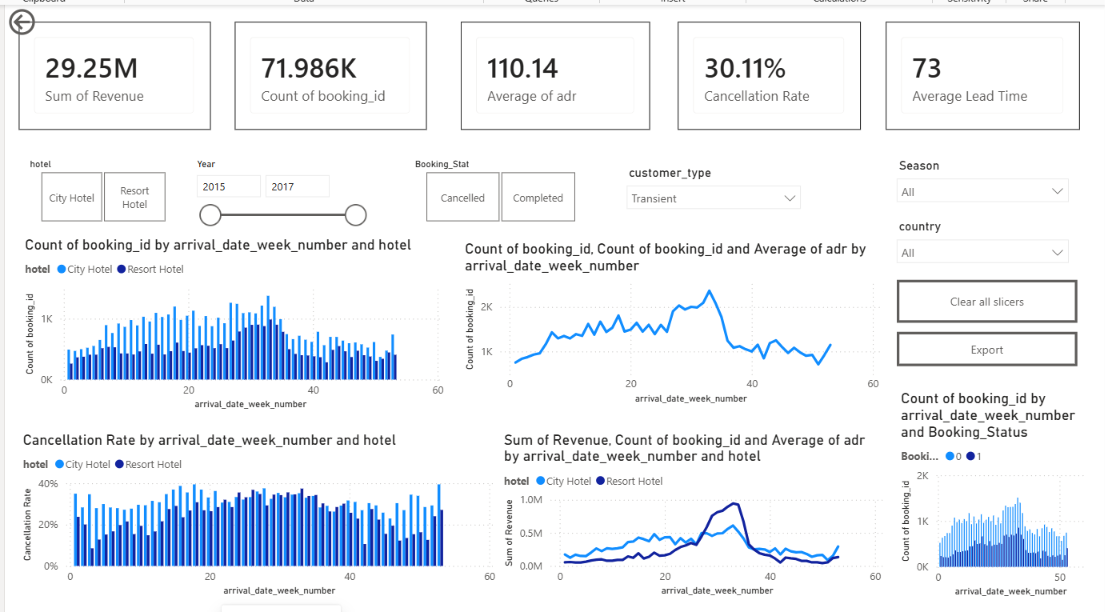

Layout of this report page (visuals, bound fields, positions):
{"tool":"powerbi","page":{"name":"Duplicate of Page 1","canvas":[1280,720],"ordinal":1},"visuals":[{"type":"cardVisual","fields":{"Data":["Sum(Hotel Bookings.Revenue)"]},"box":[15.7,20,222.9,125.7],"z":0},{"type":"cardVisual","fields":{"Data":["Count(Hotel Bookings.booking_id)"]},"box":[267.1,20,222.9,125.7],"z":1000},{"type":"cardVisual","fields":{"Data":["Avg(Hotel Bookings.adr)"]},"box":[530,20,220,125.7],"z":2000},{"type":"cardVisual","fields":{"Data":["Hotel Bookings.Cancellation Rate"]},"box":[782.9,20,212.9,125.7],"z":3000},{"type":"cardVisual","fields":{"Data":["Hotel Bookings.Average Lead Time"]},"box":[1024.3,20,225.7,125.7],"z":4000},{"type":"slicer","fields":{"Values":["Hotel Bookings.hotel"]},"box":[15.7,172.9,194.3,85.7],"z":5000},{"type":"slicer","fields":{"Values":["Hotel Bookings.Booking_Stat"]},"box":[464.3,172.9,222.9,85.7],"z":6000},{"type":"slicer","fields":{"Values":["Hotel Bookings.Arrival_date.Variation.Date Hierarchy.Year"]},"box":[210,172.9,218.6,85.7],"z":7000},{"type":"slicer","fields":{"Values":["Hotel Bookings.customer_type"]},"box":[712.9,181.4,222.9,80],"z":8000},{"type":"slicer","fields":{"Values":["Hotel Bookings.Season"]},"box":[1027.1,172.9,220,95.7],"z":9000},{"type":"actionButton","box":[0,0,100,40],"z":10000},{"type":"slicer","fields":{"Values":["Hotel Bookings.country"]},"box":[1027.1,244.3,220,91.4],"z":11000},{"type":"actionButton","box":[1037.1,320,210,50],"z":12000},{"type":"actionButton","title":"Export","box":[1037.1,380,210,40],"z":13000},{"type":"lineChart","fields":{"Category":["Hotel Bookings.arrival_date_week_number"],"Y":["CountNonNull(Hotel Bookings.booking_id)"]},"box":[530,272.9,494.3,195.7],"z":14000},{"type":"lineChart","fields":{"Category":["Hotel Bookings.arrival_date_week_number"],"Y":["Sum(Hotel Bookings.Revenue)"],"Series":["Hotel Bookings.hotel"]},"box":[575.7,495.7,451.4,197.1],"z":15000},{"type":"clusteredColumnChart","fields":{"Category":["Hotel Bookings.arrival_date_week_number"],"Y":["Hotel Bookings.Cancellation Rate"],"Series":["Hotel Bookings.hotel"]},"box":[15.7,495.7,560,197.1],"z":16000},{"type":"clusteredColumnChart","fields":{"Category":["Hotel Bookings.arrival_date_week_number"],"Y":["Count(Hotel Bookings.booking_id)"],"Series":["Hotel Bookings.hotel"]},"box":[18.6,268.6,497.1,207.1],"z":17000},{"type":"clusteredColumnChart","fields":{"Category":["Hotel Bookings.arrival_date_week_number"],"Y":["Count(Hotel Bookings.booking_id)"],"Series":["Hotel Bookings.Booking_Status"]},"box":[1037.1,447.1,230,245.7],"z":18000}]}

Visuals, with their boxes on the page's 1280x720 design canvas (x1, y1, x2, y2). These are canvas units, not pixel positions in the 1105x612 screenshot, which may show the page scaled, cropped or inside an application window:
cardVisual - Sum(Hotel Bookings.Revenue): {"left": 16, "top": 20, "right": 239, "bottom": 146}
cardVisual - Count(Hotel Bookings.booking_id): {"left": 267, "top": 20, "right": 490, "bottom": 146}
cardVisual - Avg(Hotel Bookings.adr): {"left": 530, "top": 20, "right": 750, "bottom": 146}
cardVisual - Hotel Bookings.Cancellation Rate: {"left": 783, "top": 20, "right": 996, "bottom": 146}
cardVisual - Hotel Bookings.Average Lead Time: {"left": 1024, "top": 20, "right": 1250, "bottom": 146}
slicer - Hotel Bookings.hotel: {"left": 16, "top": 173, "right": 210, "bottom": 259}
slicer - Hotel Bookings.Booking_Stat: {"left": 464, "top": 173, "right": 687, "bottom": 259}
slicer - Hotel Bookings.Arrival_date.Variation.Date Hierarchy.Year: {"left": 210, "top": 173, "right": 429, "bottom": 259}
slicer - Hotel Bookings.customer_type: {"left": 713, "top": 181, "right": 936, "bottom": 261}
slicer - Hotel Bookings.Season: {"left": 1027, "top": 173, "right": 1247, "bottom": 269}
actionButton: {"left": 0, "top": 0, "right": 100, "bottom": 40}
slicer - Hotel Bookings.country: {"left": 1027, "top": 244, "right": 1247, "bottom": 336}
actionButton: {"left": 1037, "top": 320, "right": 1247, "bottom": 370}
"Export" actionButton: {"left": 1037, "top": 380, "right": 1247, "bottom": 420}
lineChart - Hotel Bookings.arrival_date_week_number x CountNonNull(Hotel Bookings.booking_id): {"left": 530, "top": 273, "right": 1024, "bottom": 469}
lineChart - Hotel Bookings.arrival_date_week_number x Sum(Hotel Bookings.Revenue): {"left": 576, "top": 496, "right": 1027, "bottom": 693}
clusteredColumnChart - Hotel Bookings.arrival_date_week_number x Hotel Bookings.Cancellation Rate: {"left": 16, "top": 496, "right": 576, "bottom": 693}
clusteredColumnChart - Hotel Bookings.arrival_date_week_number x Count(Hotel Bookings.booking_id): {"left": 19, "top": 269, "right": 516, "bottom": 476}
clusteredColumnChart - Hotel Bookings.arrival_date_week_number x Count(Hotel Bookings.booking_id): {"left": 1037, "top": 447, "right": 1267, "bottom": 693}
